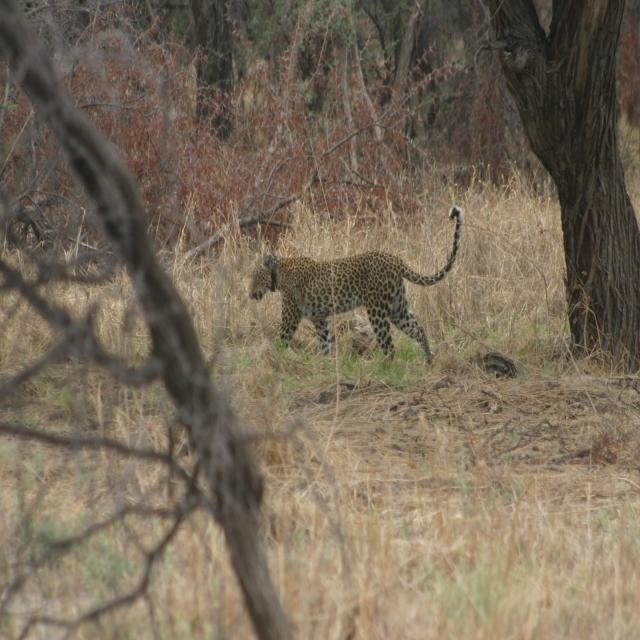Leopard: (248, 213, 462, 363)
